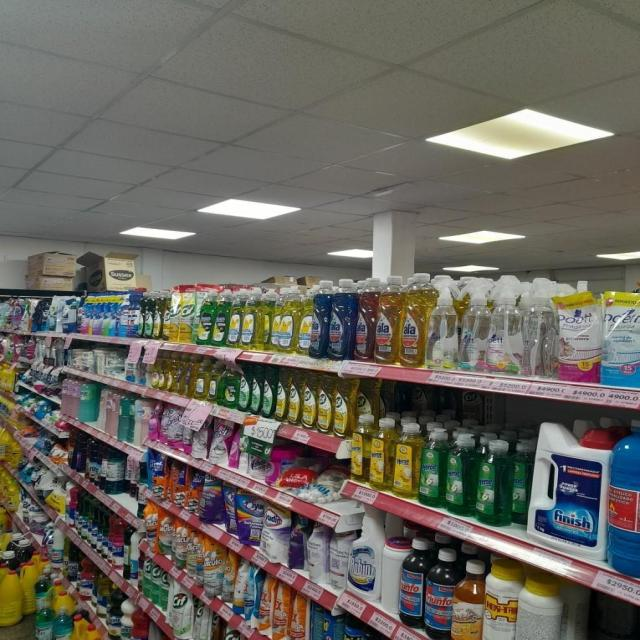ala_conc_amarillo: (402, 272, 428, 368), (376, 274, 402, 365)
ala_conc_azul: (328, 277, 354, 360)
ala_conc_rojo: (355, 276, 376, 362)
cif_conc_bot_amarilla: (334, 373, 353, 438), (318, 372, 332, 434), (302, 369, 316, 430), (288, 366, 302, 426), (275, 364, 287, 422), (153, 289, 162, 340)
cif_conc_botella_verde: (262, 363, 273, 418), (250, 362, 261, 414), (239, 362, 250, 412)
cif_conc_sachet_verde: (170, 584, 192, 638)
heroe: (393, 420, 419, 499)
magistral_con_amarillo: (281, 285, 297, 354), (298, 282, 311, 356), (242, 286, 256, 350), (228, 285, 241, 348), (192, 356, 208, 400)
